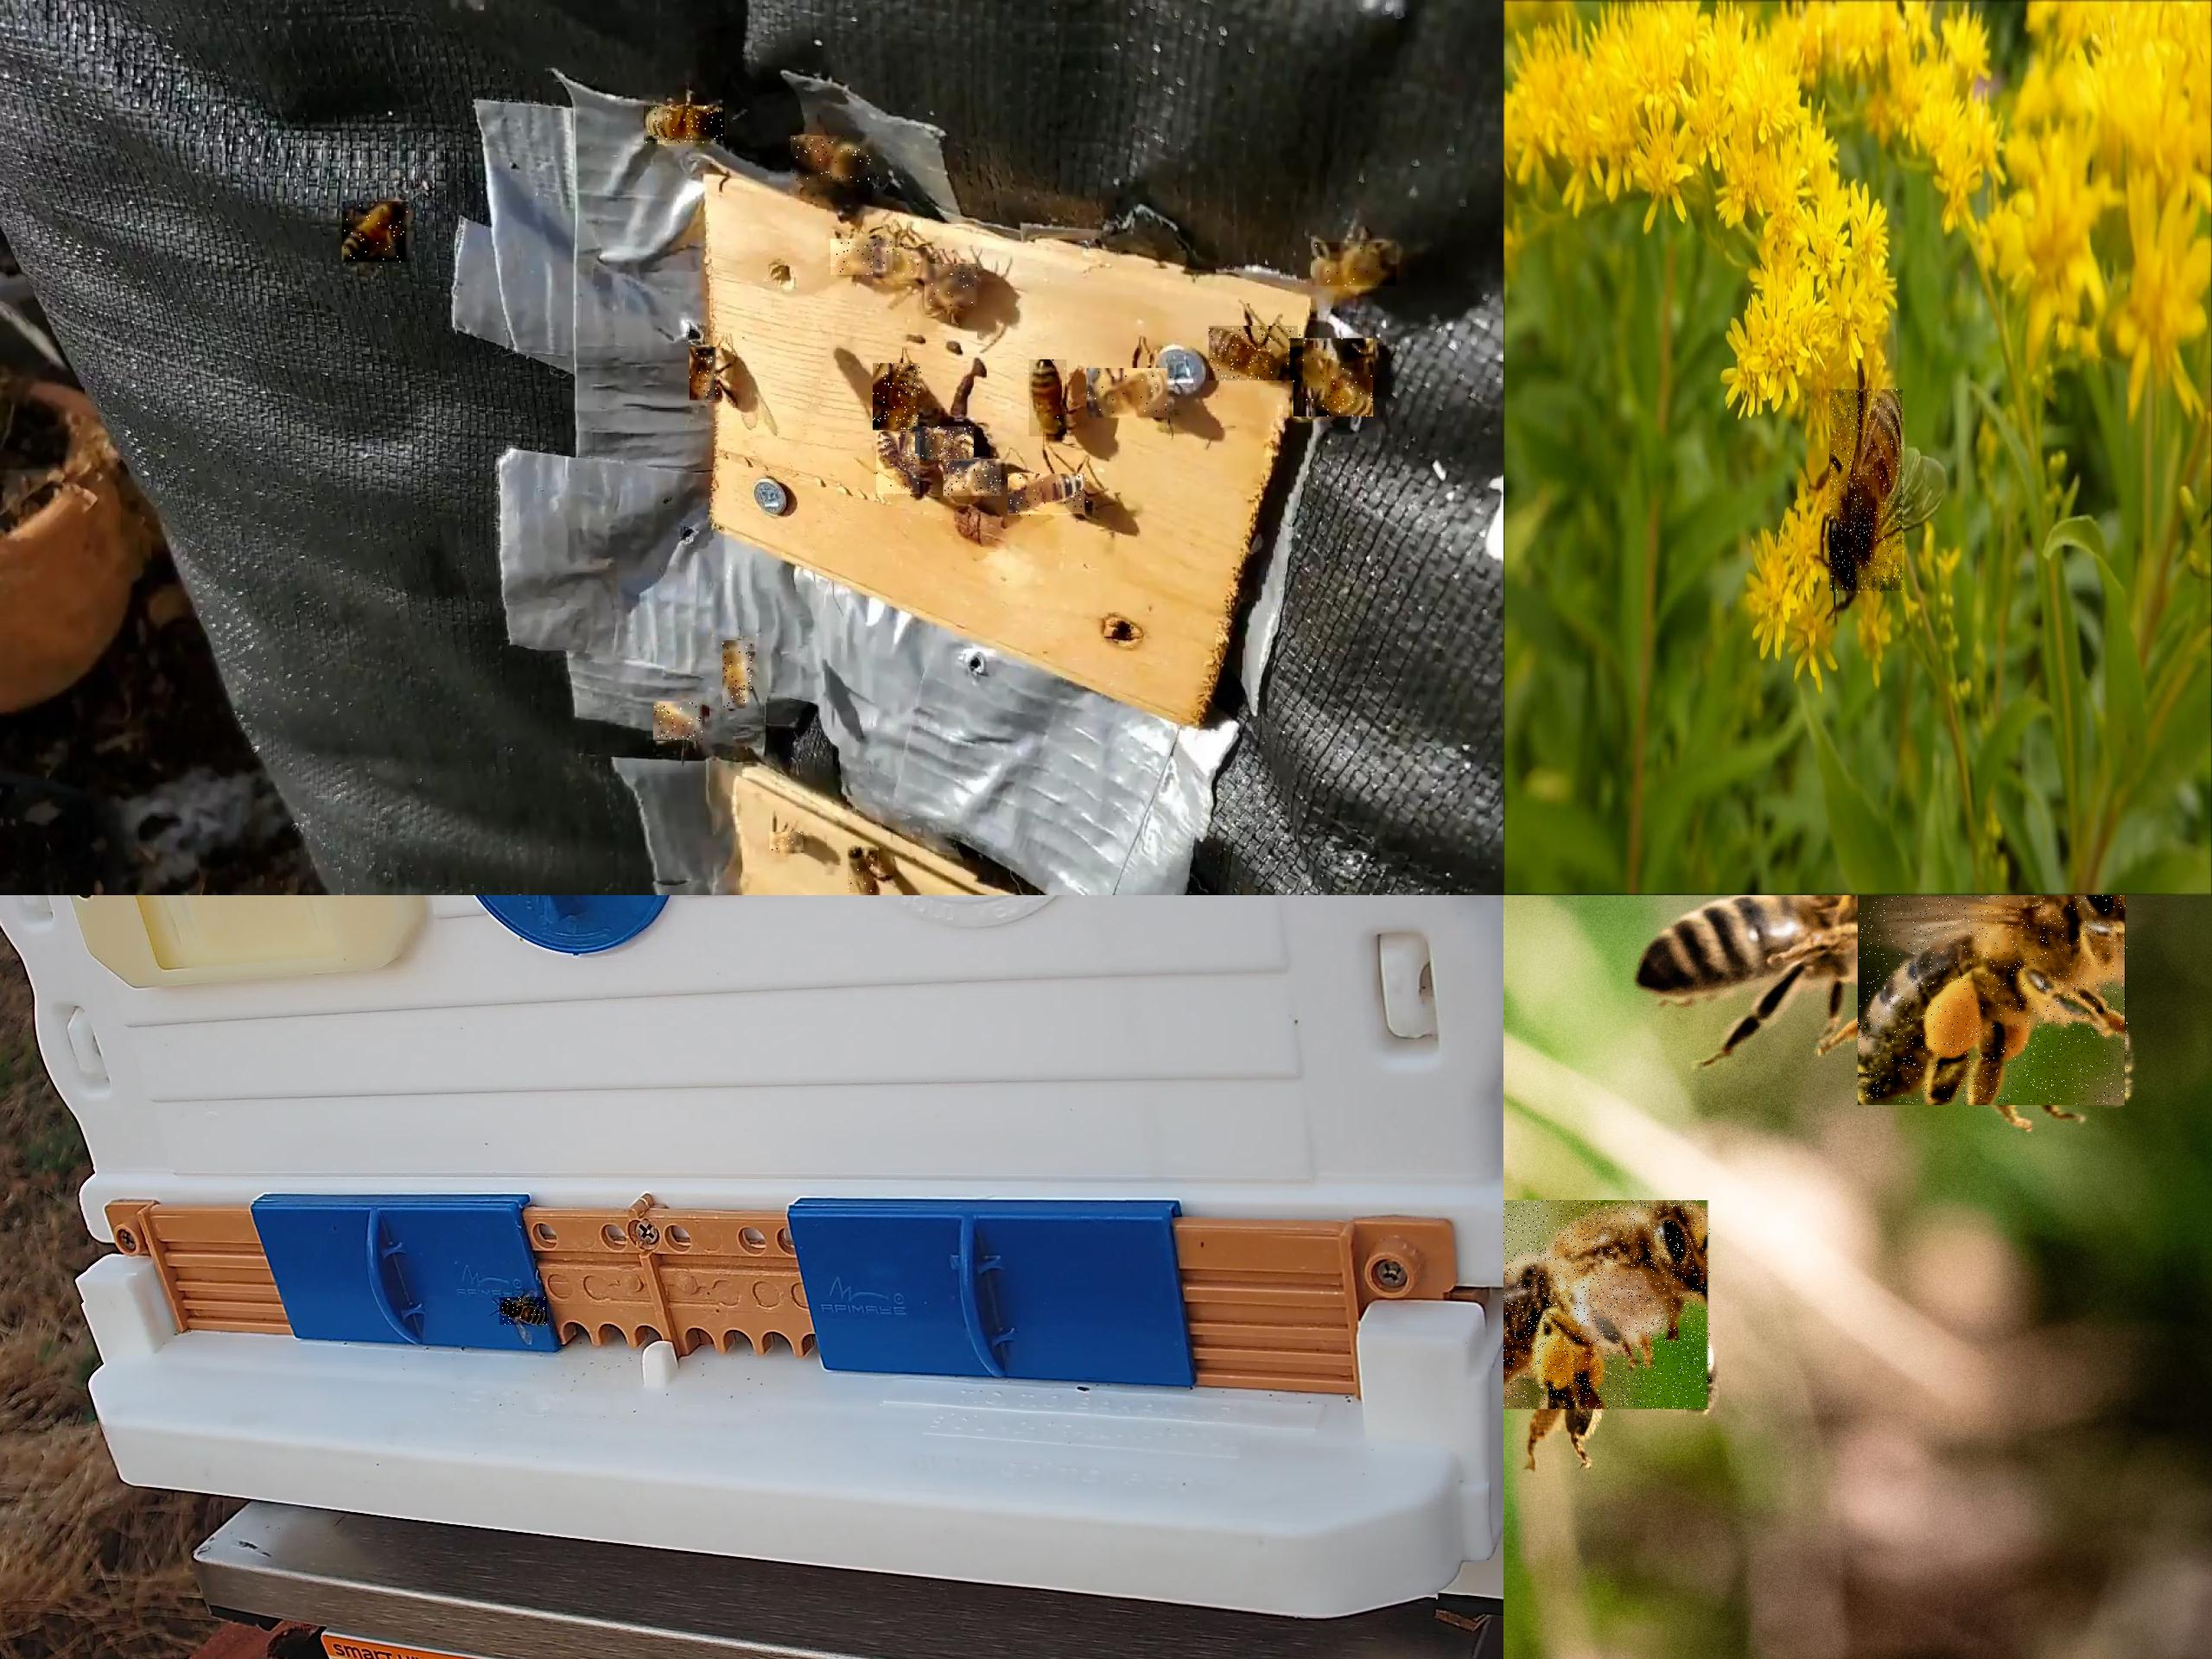bee: (1829, 390, 1904, 596), (1294, 338, 1374, 418), (1209, 326, 1303, 382), (791, 136, 878, 188), (1087, 368, 1174, 420), (343, 202, 411, 263), (1313, 242, 1399, 288), (1008, 474, 1090, 519), (874, 364, 923, 432), (644, 106, 726, 145), (1029, 361, 1068, 441), (876, 432, 921, 498), (925, 265, 981, 310), (831, 239, 895, 277), (944, 458, 1005, 497), (723, 641, 754, 709), (914, 427, 975, 462), (874, 249, 934, 284), (655, 702, 705, 741), (690, 347, 721, 401), (500, 1297, 549, 1326), (848, 847, 878, 894), (770, 833, 805, 854)
pollenbee: (1858, 896, 2128, 1107), (1503, 1201, 1712, 1412)
